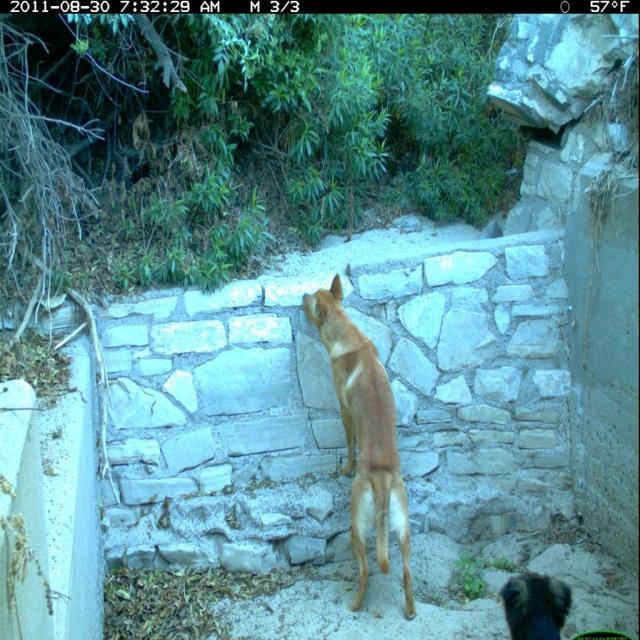dog: (299, 270, 436, 619), (490, 562, 584, 640)
